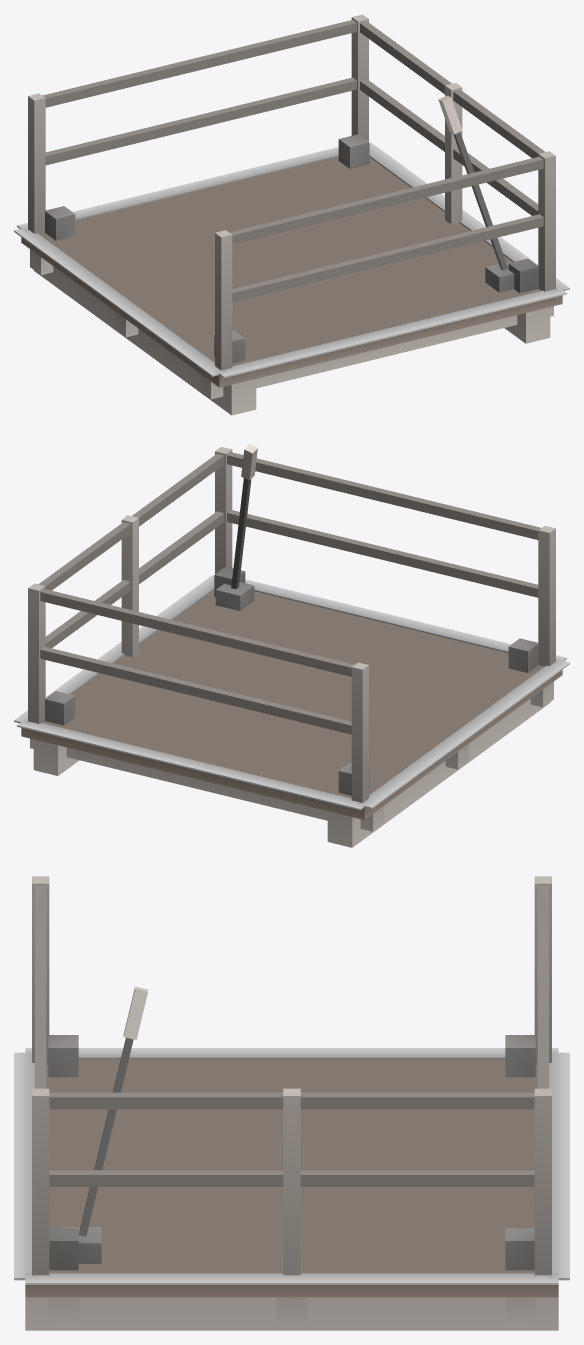
The model's file is kit_lift.glb.
3 views of the same model, one above another, from view 1: azimuth 30°, elevation 25°; view 2: azimuth 150°, elevation 25°; view 3: azimuth 270°, elevation 25° (orthographic). The views are drawn at different scales.
Visible parts, largest first — view 1: kit_lift; view 2: kit_lift; view 3: kit_lift.
Part boxes in pixels (x1=…): kit_lift: x1=14, y1=14, x2=569, y2=415; kit_lift: x1=14, y1=444, x2=569, y2=847; kit_lift: x1=14, y1=876, x2=569, y2=1330.
Size of the model in its own units: 2.92 by 1.76 by 2.92.
